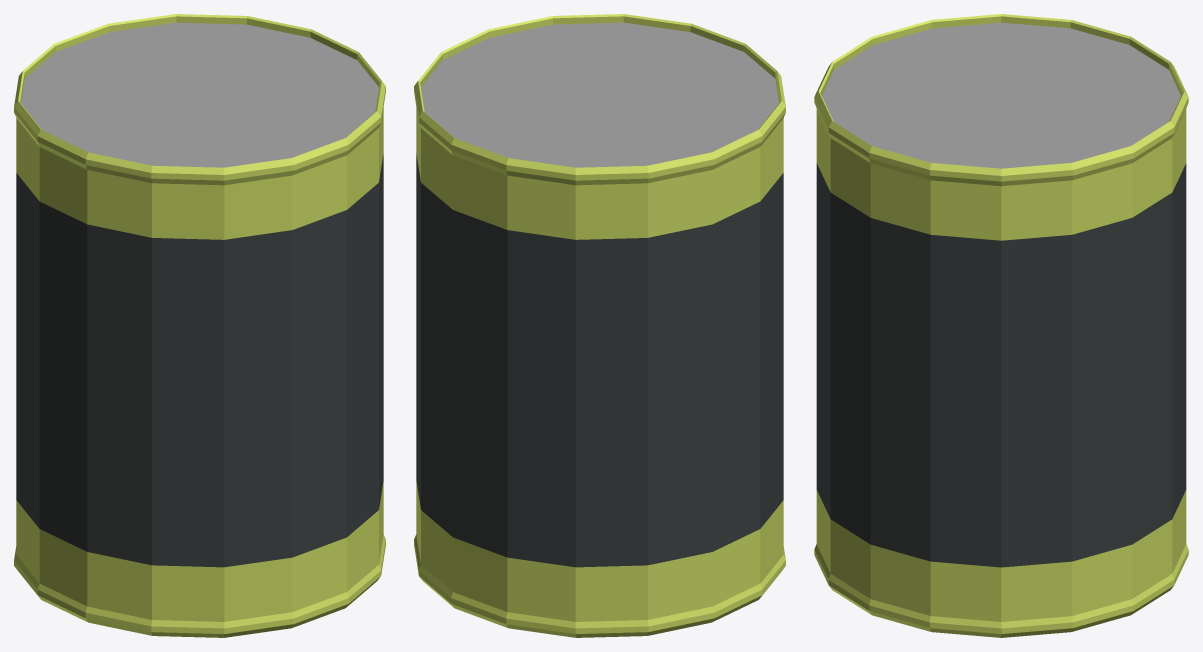
Rendered from oilBarrel.glb.
The picture shows the model from 3 angles, left to right: view 1: azimuth 30°, elevation 25°; view 2: azimuth 150°, elevation 25°; view 3: azimuth 270°, elevation 25°; orthographic projection.
Visible parts, largest first — view 1: Circle; view 2: Circle; view 3: Circle.
Boxes of the visible parts, bbox=[...] form: Circle: bbox=[14, 14, 385, 637]; Circle: bbox=[414, 14, 785, 637]; Circle: bbox=[814, 14, 1188, 637].
Size of the model in its own units: 1.43 by 1.98 by 1.43.
